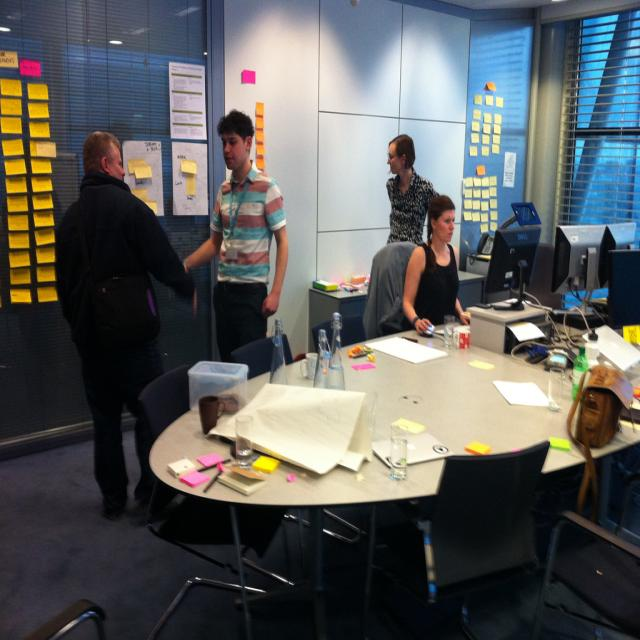chair: (384, 439, 550, 638), (529, 510, 640, 639), (1, 597, 107, 640), (230, 334, 290, 382)
desk: (143, 323, 593, 624)
person: (55, 131, 197, 521), (183, 109, 289, 365), (363, 194, 474, 341), (385, 135, 437, 244)
tv: (553, 224, 608, 296)
